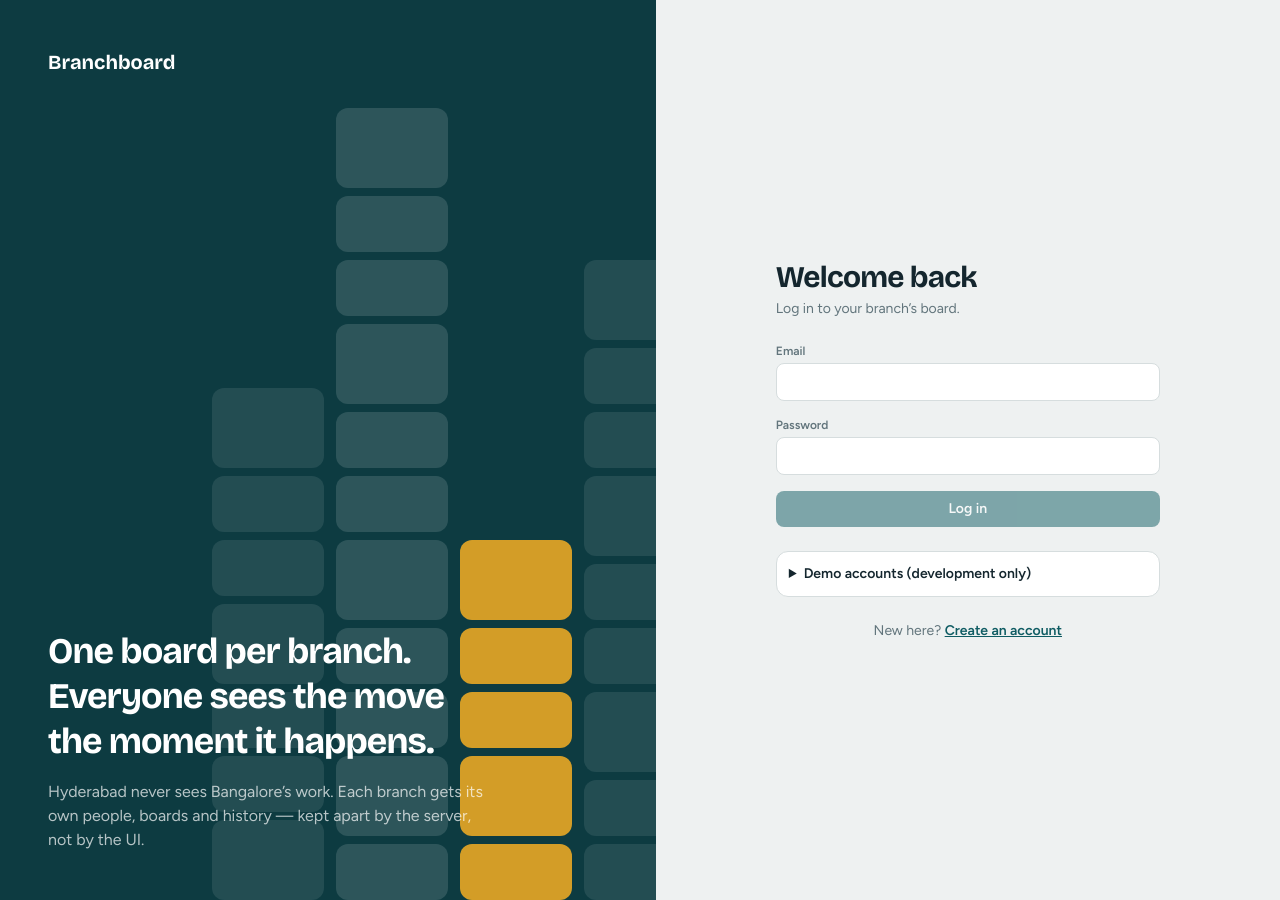
Test: LoginPage › shows the server error message on failure
In the field labelled "Email": [968, 382] box [776,363,1160,401], type "a@b.co"
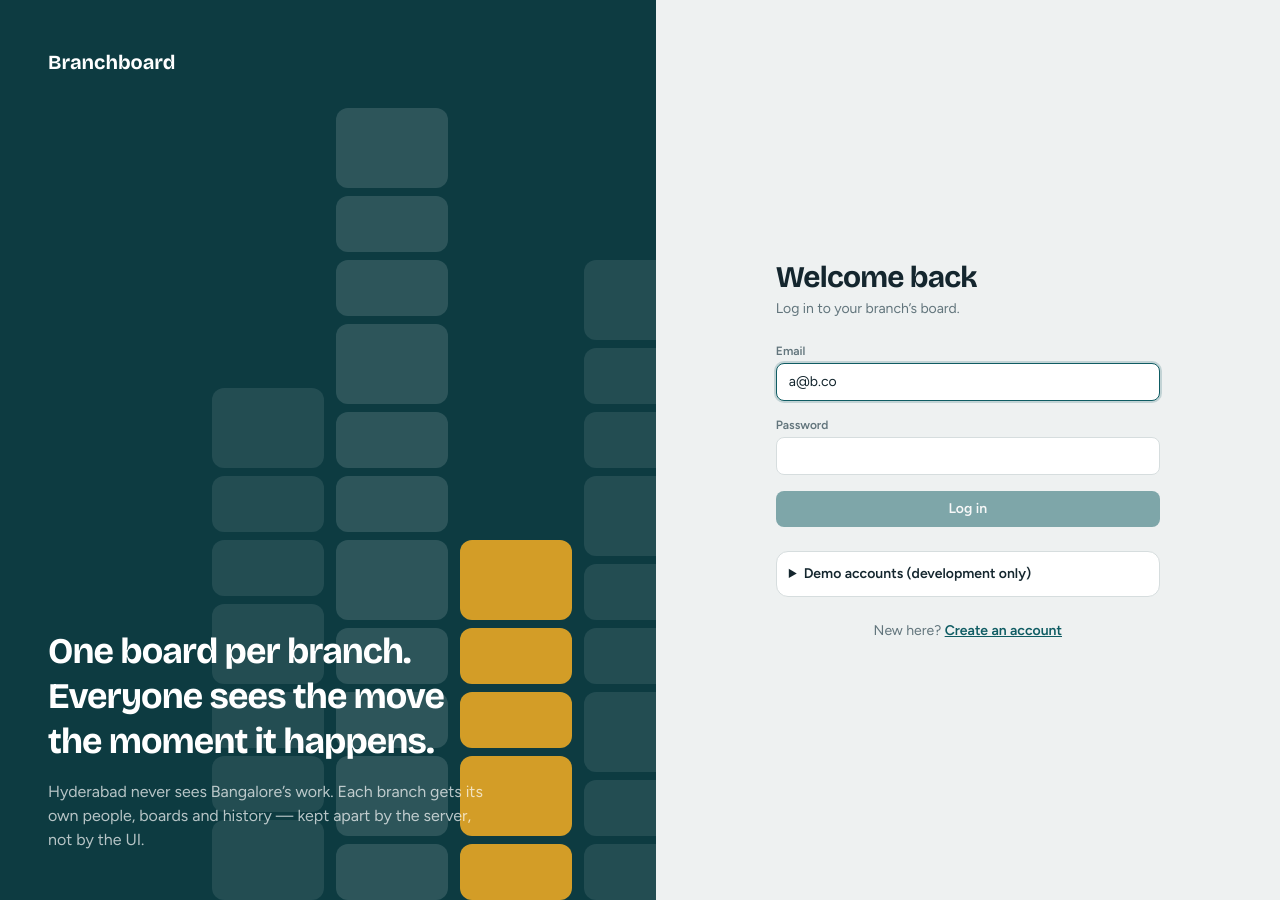
In the password field labelled "Password": [968, 456] box [776,437,1160,475], type "wrongwrong"
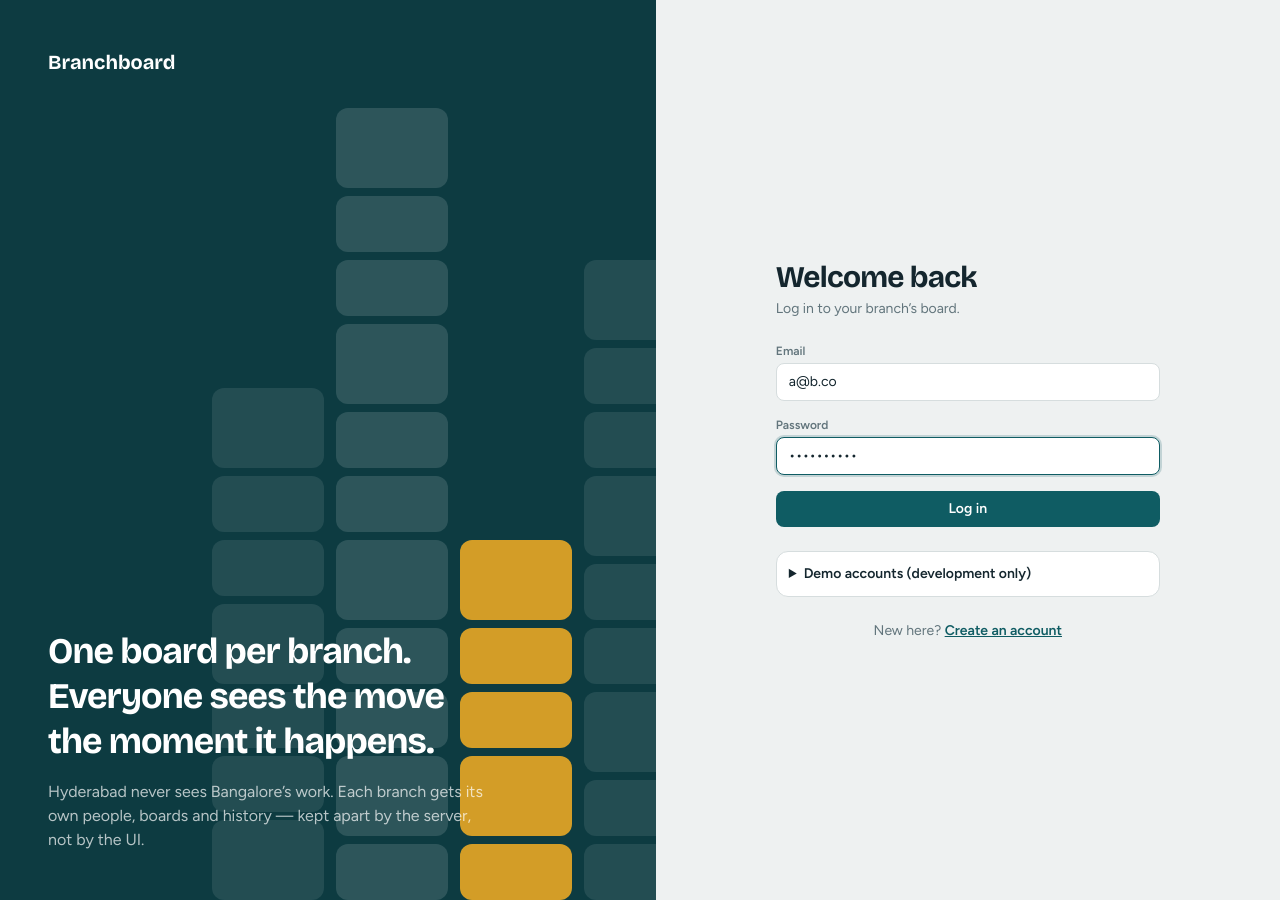
Click the button "Log in": [968, 509] box [776,491,1160,527]
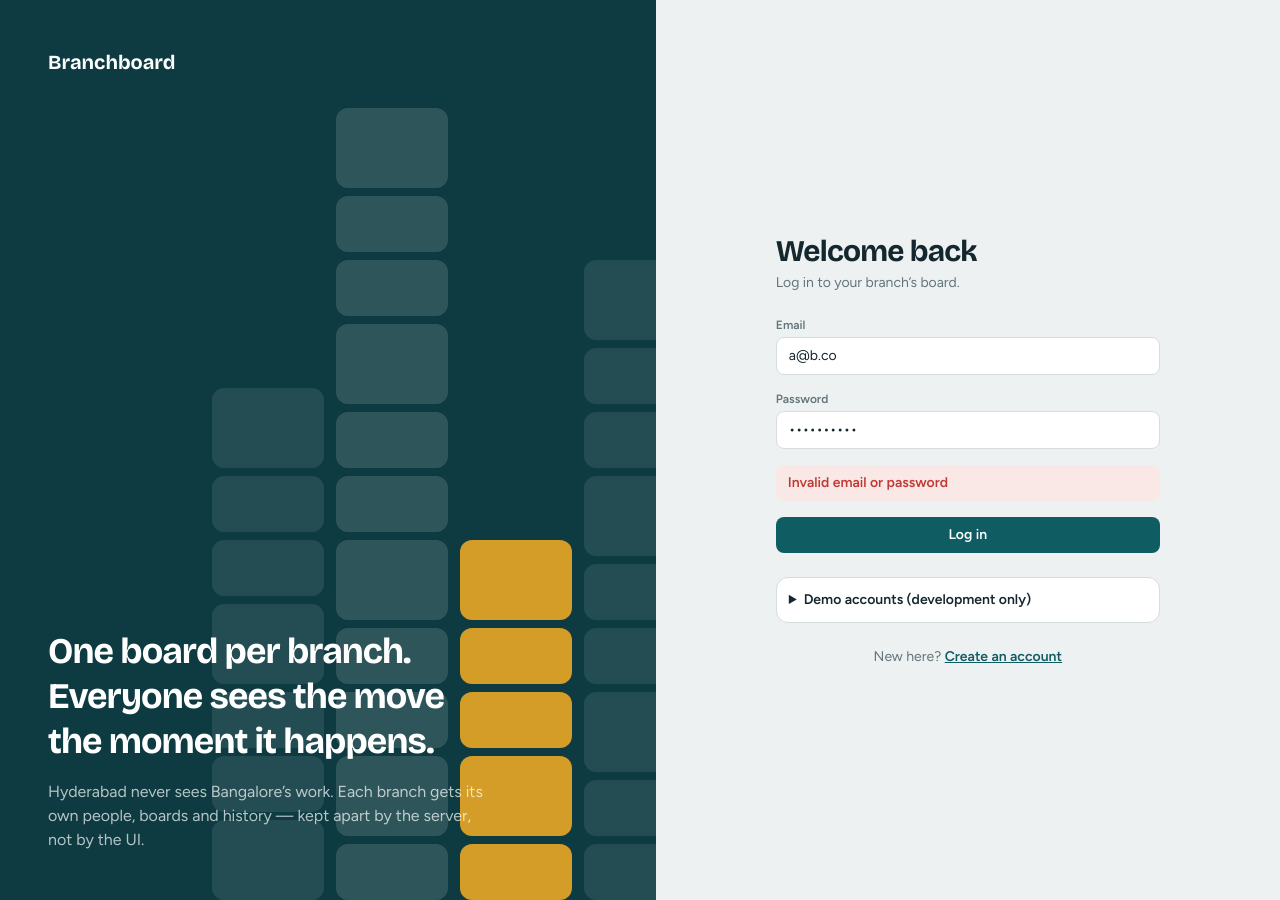
Result: the message reads "Invalid email or password" at [788,474,948,491]
